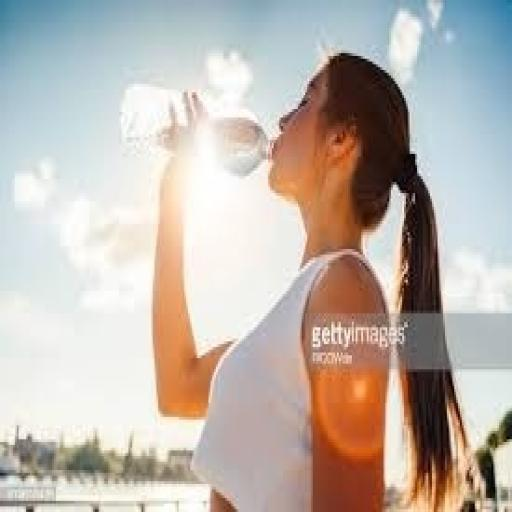drinking: (113, 56, 512, 459)
